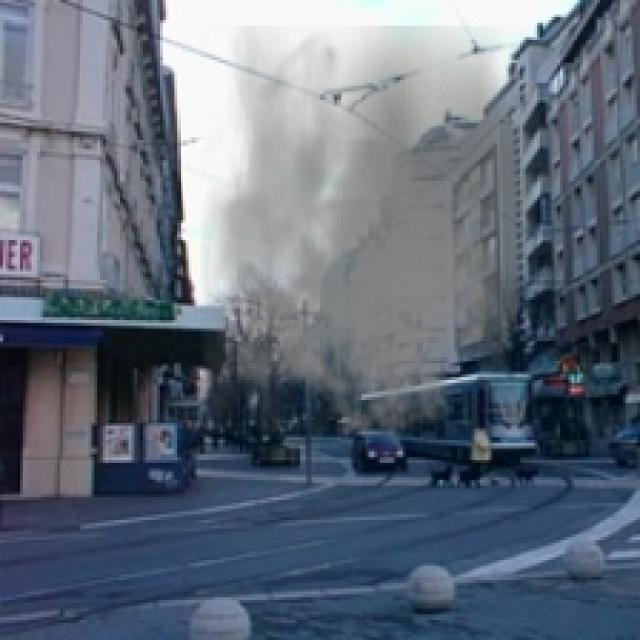Smoke: (200, 26, 543, 448)
